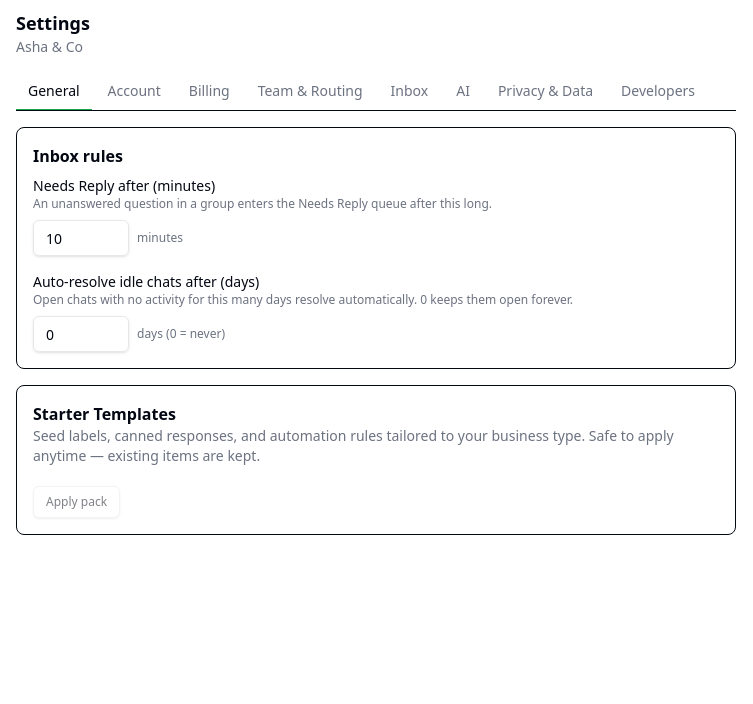
Scenario: SettingsPage › account tab shows the profile and changes the password
Click the tab "Account". click: [134, 92]
box: [96,73,173,111]
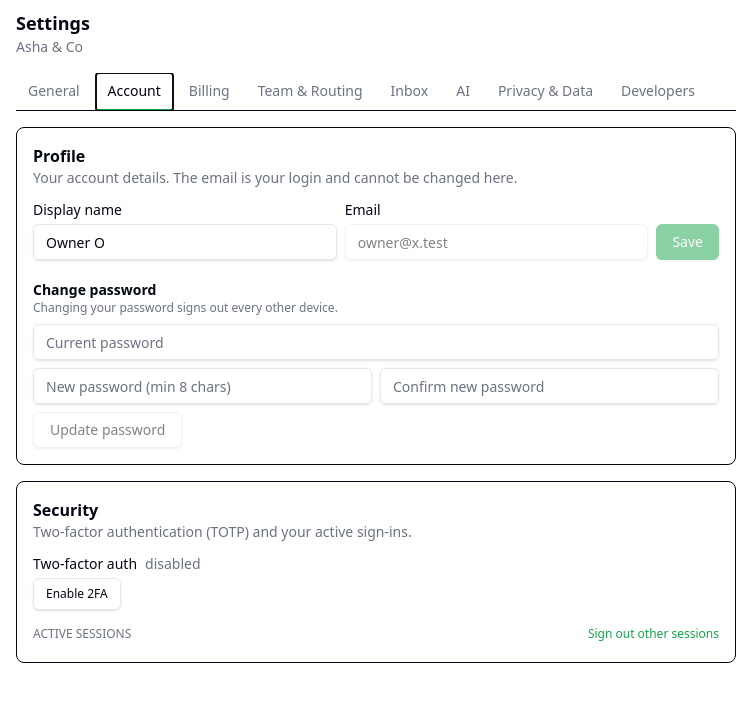
Check: the field labelled "Email" holds "owner@x.test", box [345,224,648,260]
Check: the field labelled "Display name" holds "Owner O", box [33,224,337,260]
Type "old-secret-1" into the password field labelled "Current password". click: [376, 342]
box: [33,324,719,360]
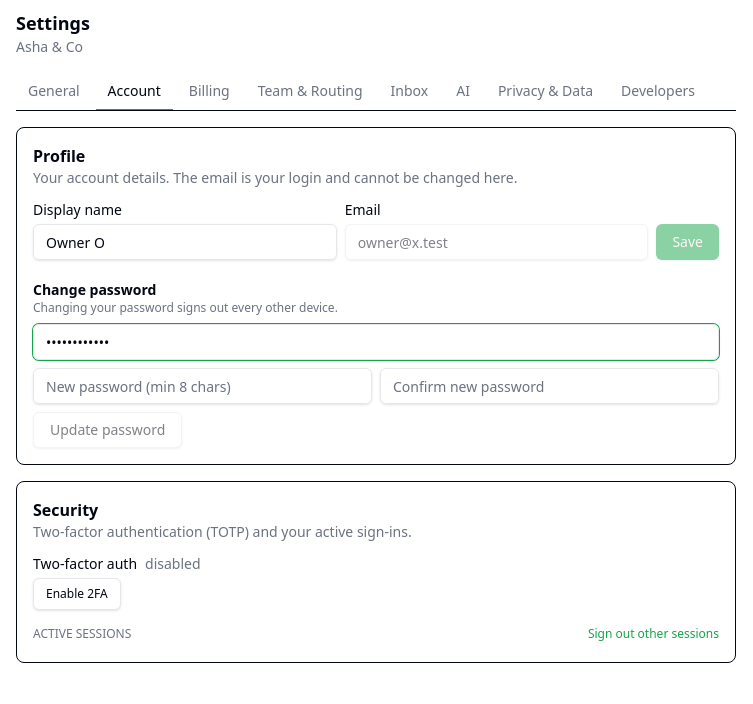
Type "new-secret-9" into the password field labelled "New password". click: [202, 386]
box: [33,368,372,404]
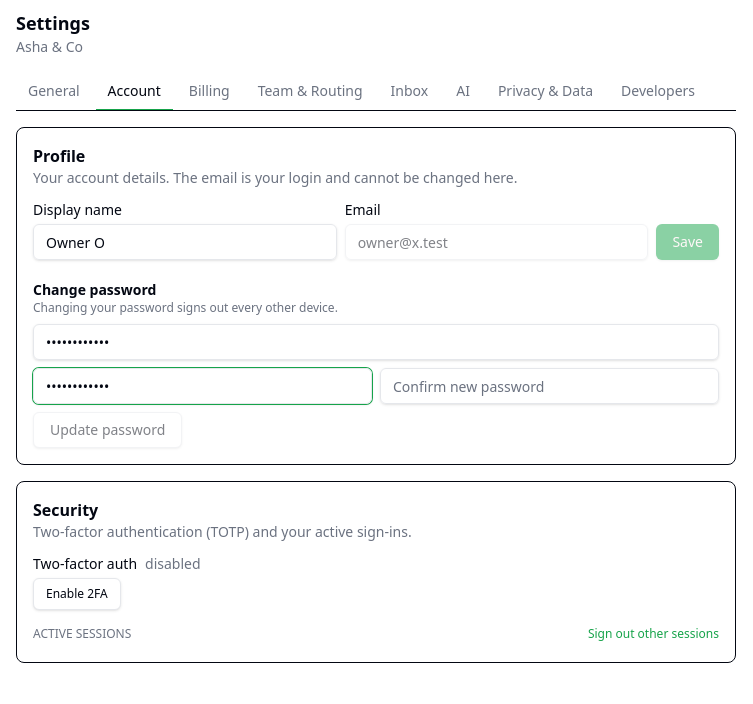
Type "new-secret-9" into the password field labelled "Confirm new password". click: [550, 386]
box: [380,368,719,404]
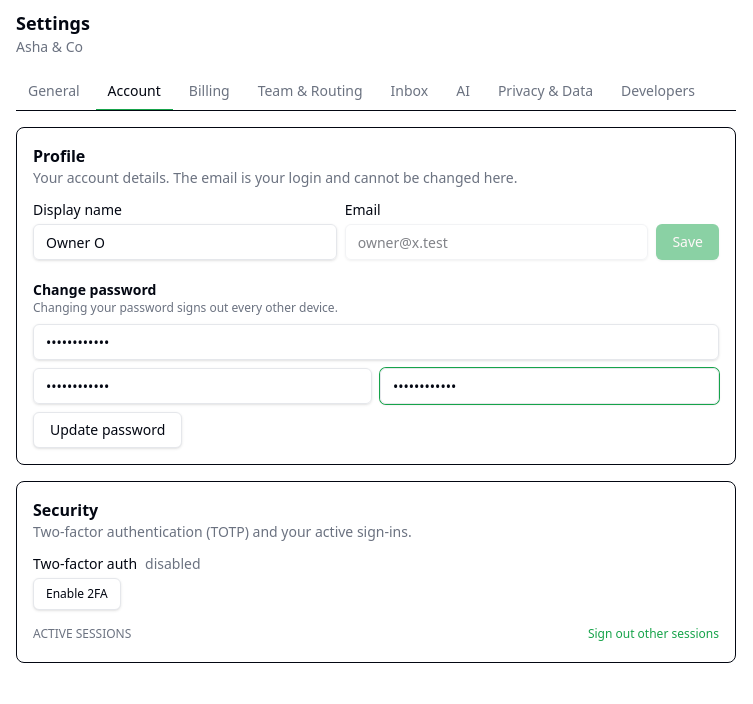
Click the button "Update password". click: [108, 430]
box: [33,412,182,448]
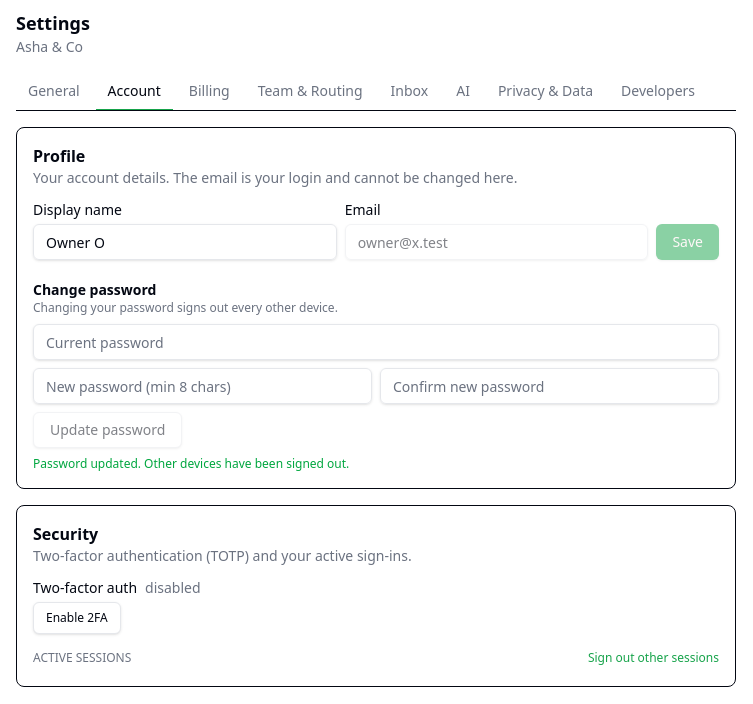
Check: the message shows "Password updated", box [33,455,349,472]
